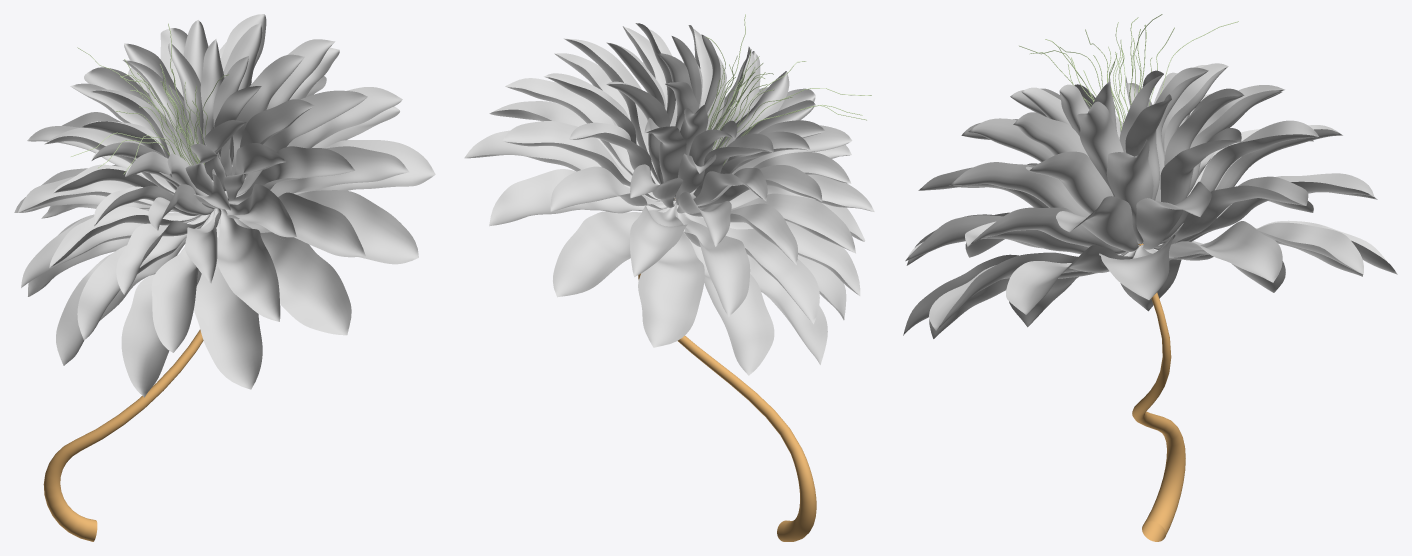
File: flower.fbx
The picture shows the model from 3 angles, left to right: view 1: azimuth 30°, elevation 25°; view 2: azimuth 150°, elevation 25°; view 3: azimuth 270°, elevation 25°; orthographic projection. The views are drawn at different scales.
Visible parts, largest first — view 1: Flower; view 2: Flower; view 3: Flower.
Part boxes in pixels (x1,y1,x2,y2): Flower: (14, 14, 435, 541); Flower: (464, 14, 874, 541); Flower: (903, 14, 1397, 541).
Size of the model in its own units: 386 by 505 by 396.
